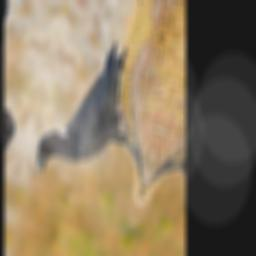Crow: (31, 23, 174, 214)
